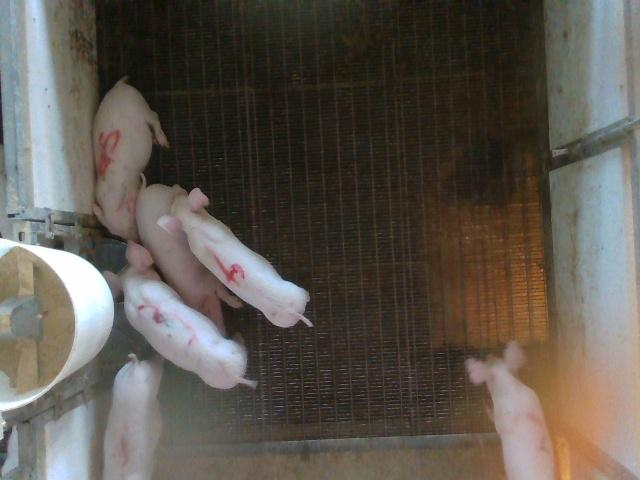pig-1: (102, 354, 162, 478)
pig-2: (466, 341, 554, 478)
pig-3: (102, 241, 255, 388)
pig-4: (159, 186, 311, 327)
pig-5: (92, 78, 169, 242)
